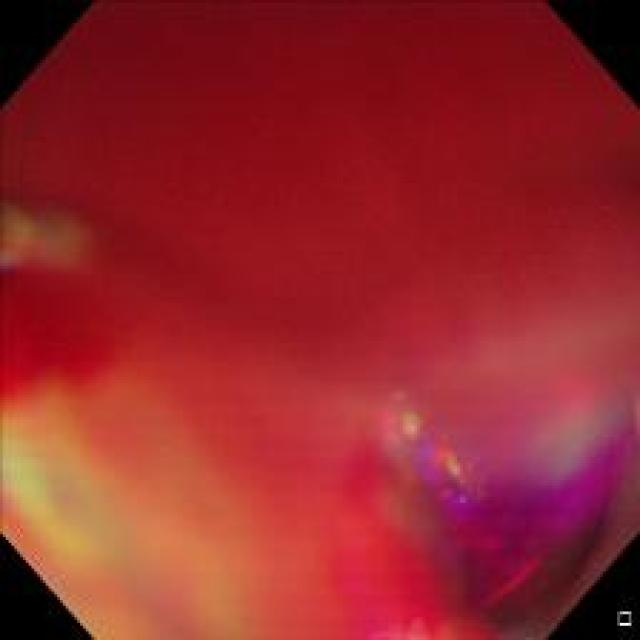color misalignment: (2, 0, 634, 635), (371, 379, 631, 639), (4, 395, 230, 630), (1, 178, 109, 282)
